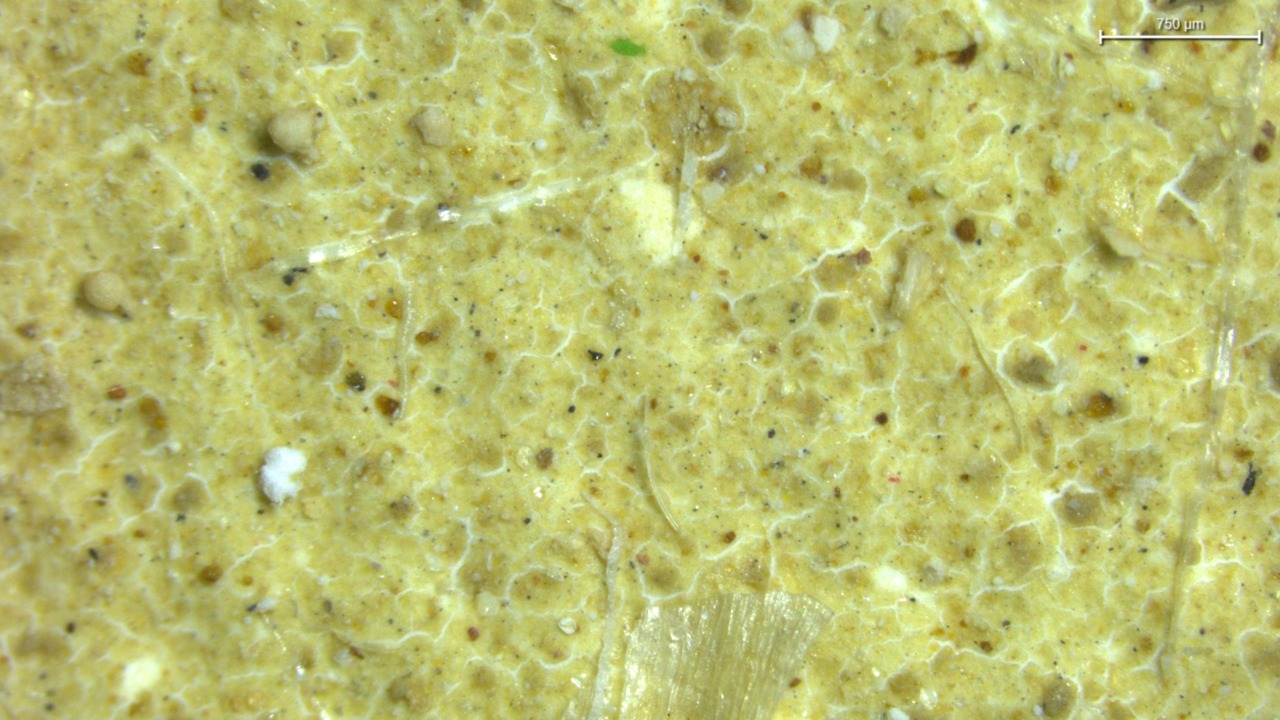microplastic_fragment: (268, 107, 324, 162), (260, 447, 307, 504)
